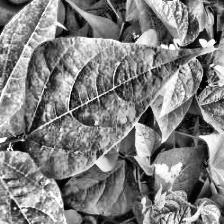Bean Rust: (29, 20, 197, 171), (0, 0, 72, 139), (0, 130, 81, 224)
